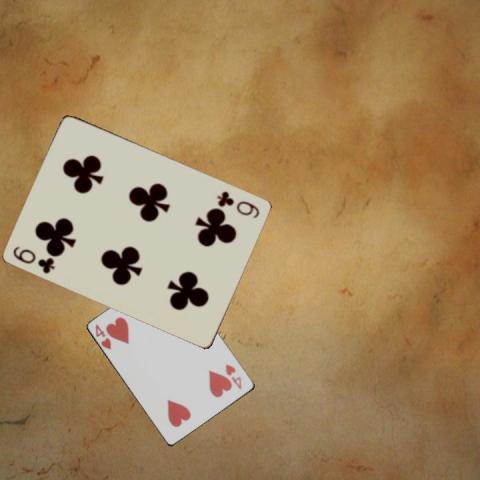4h: (223, 360, 243, 390), (92, 321, 112, 351)
6c: (214, 188, 261, 220), (10, 243, 57, 274)
